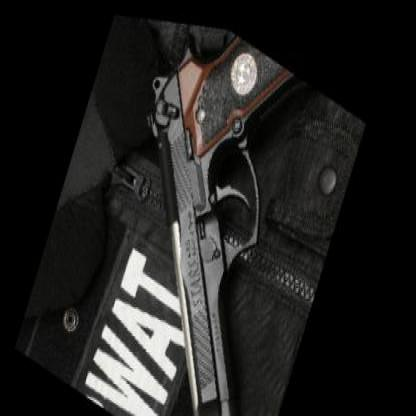pistol: (65, 9, 348, 414)
